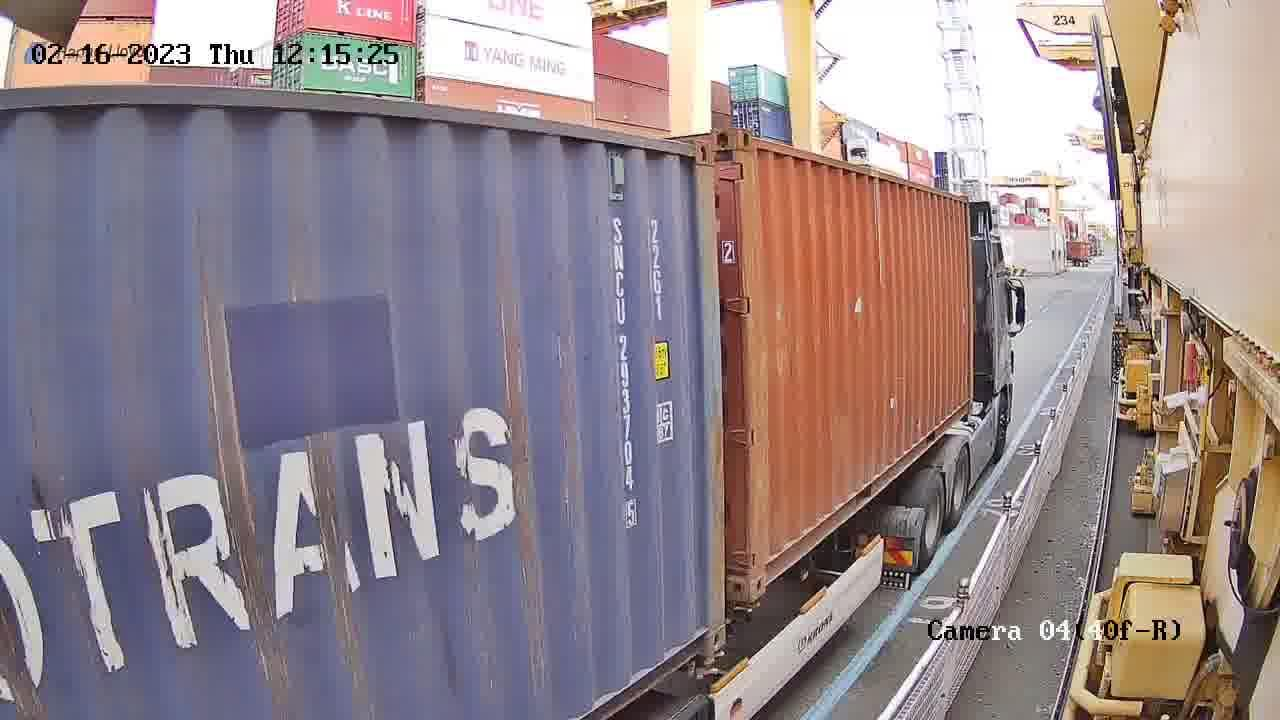Cone: (688, 646, 727, 685), (730, 595, 767, 625)
Hole_L: (749, 520, 788, 602)
Hole_R: (672, 593, 726, 670), (724, 543, 750, 601)
Tire: (920, 480, 945, 557), (949, 452, 971, 519)
